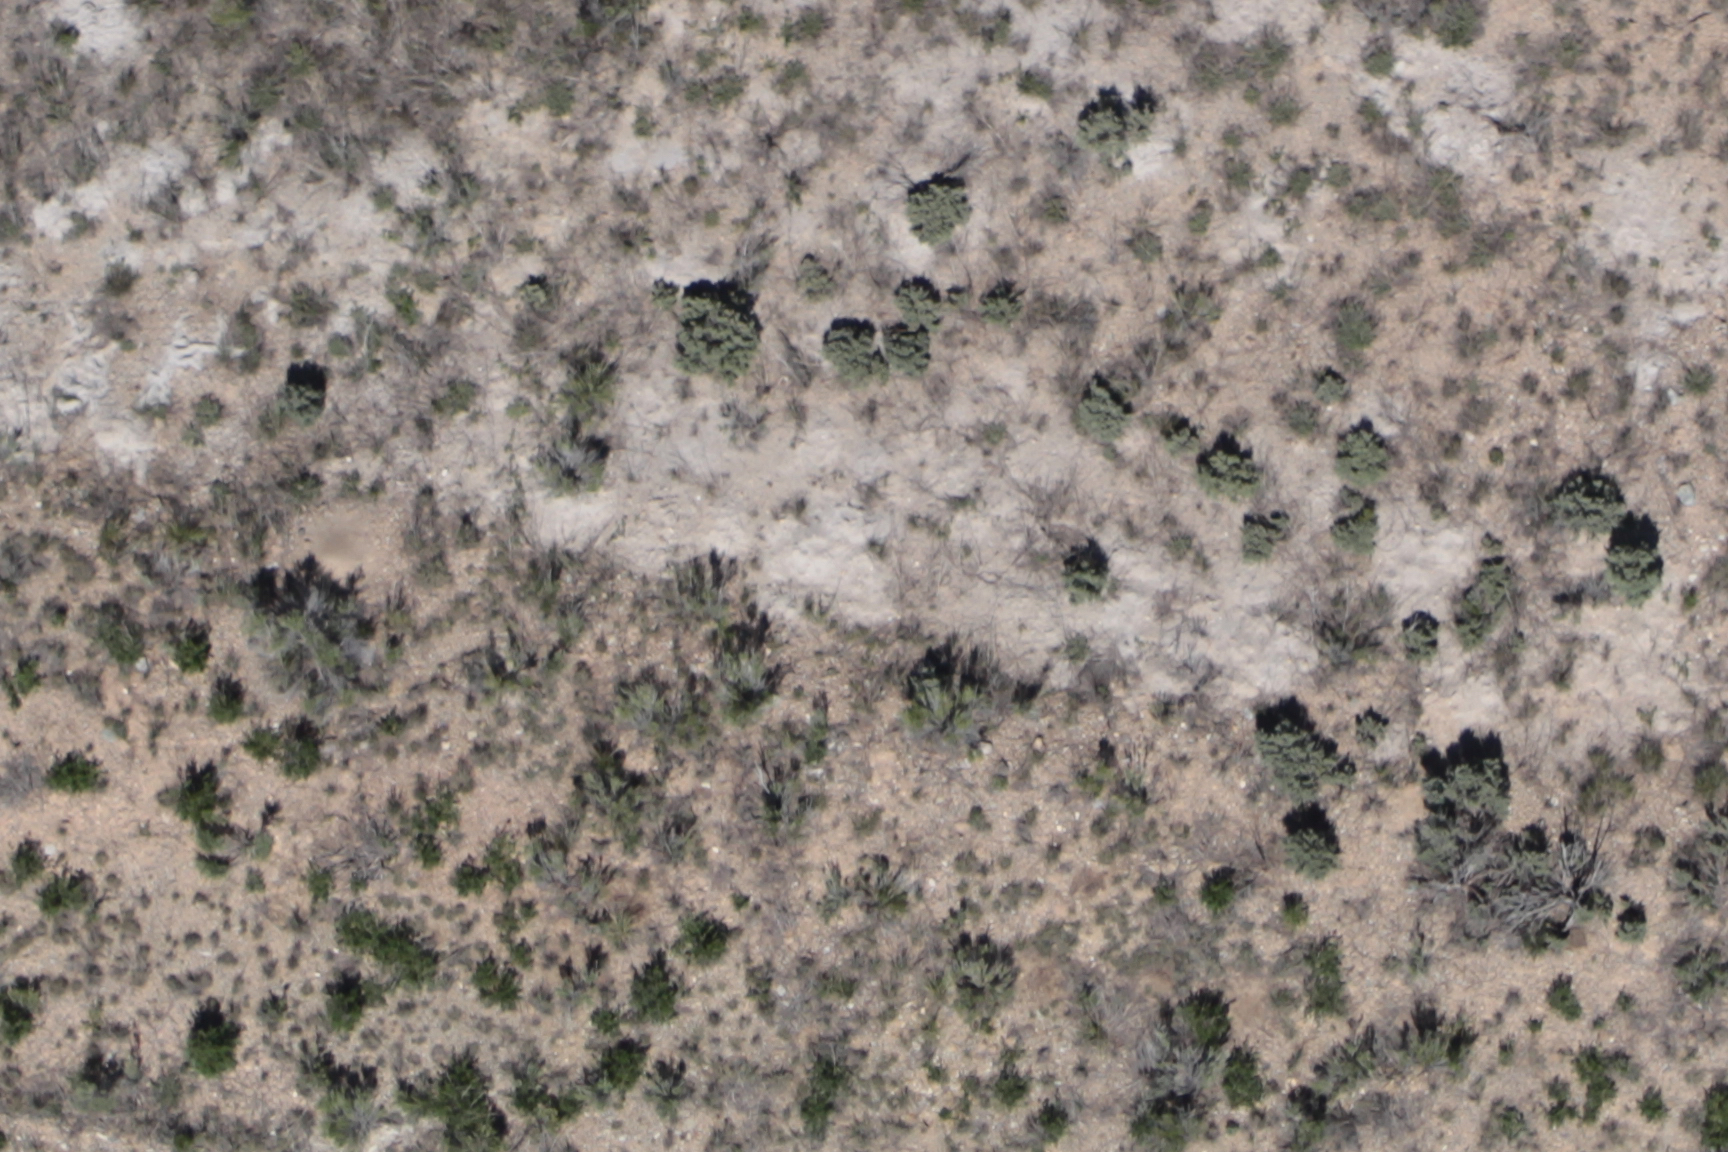burrow: (291, 518, 375, 606)
